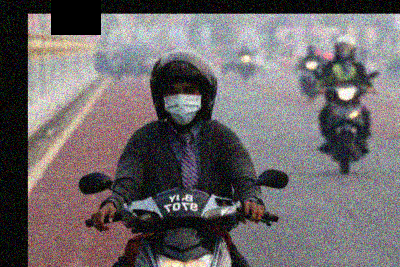with_mask: (162, 83, 200, 124)
